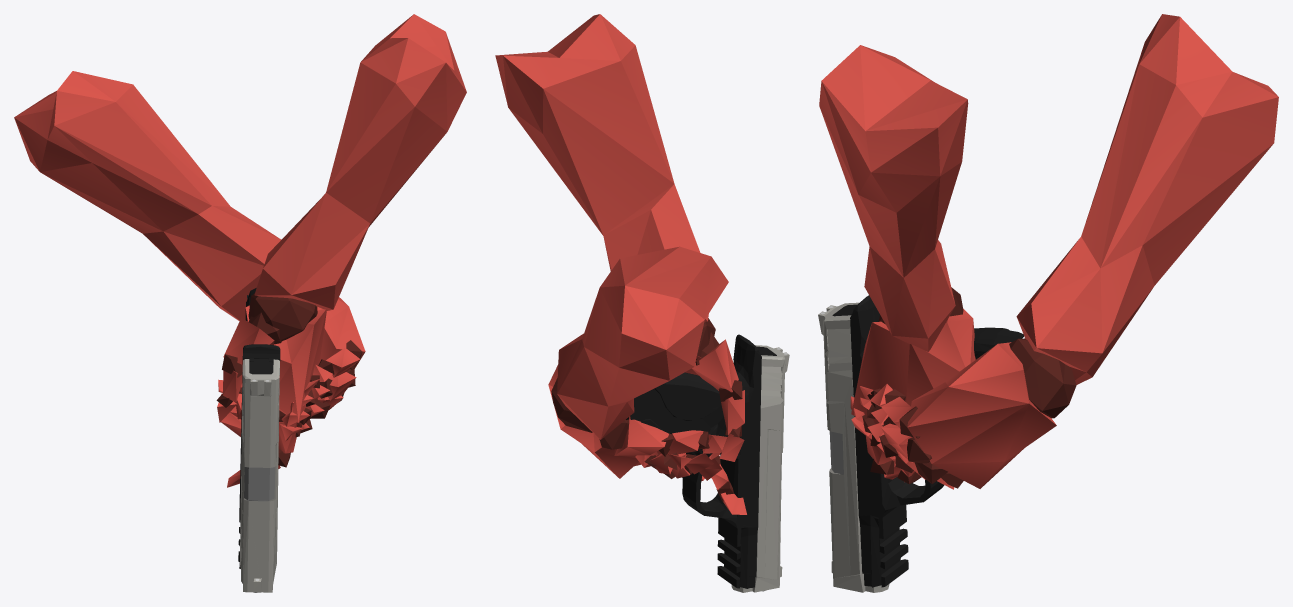
The model's file is M&P9shootExtendLowPoly_000015.obj.
3 views of the same model, side by side, from view 1: azimuth 30°, elevation 25°; view 2: azimuth 150°, elevation 25°; view 3: azimuth 270°, elevation 25° (orthographic). The views are drawn at different scales.
Parts seen in each view (by area): view 1: Beta_Surface, slide_平面.002, Beta_Joints, barrel_円.001, body_平面; view 2: Beta_Surface, body_平面, slide_平面.002, Beta_Joints; view 3: Beta_Surface, body_平面, slide_平面.002, Beta_Joints.
Part boxes in pixels (x1=…): Beta_Surface: x1=14, y1=14, x2=466, y2=487; slide_平面.002: x1=240, y1=359, x2=279, y2=592; Beta_Joints: x1=216, y1=293, x2=362, y2=467; barrel_円.001: x1=244, y1=467, x2=275, y2=592; body_平面: x1=238, y1=288, x2=280, y2=568; Beta_Surface: x1=495, y1=14, x2=746, y2=514; body_平面: x1=630, y1=334, x2=762, y2=588; slide_平面.002: x1=731, y1=345, x2=789, y2=592; Beta_Joints: x1=551, y1=318, x2=742, y2=501; Beta_Surface: x1=819, y1=14, x2=1278, y2=489; body_平面: x1=850, y1=295, x2=1023, y2=587; slide_平面.002: x1=818, y1=302, x2=889, y2=592; Beta_Joints: x1=862, y1=287, x2=1076, y2=488.
Bounding box in the file's own units: 46.82 × 74.57 × 49.29.
